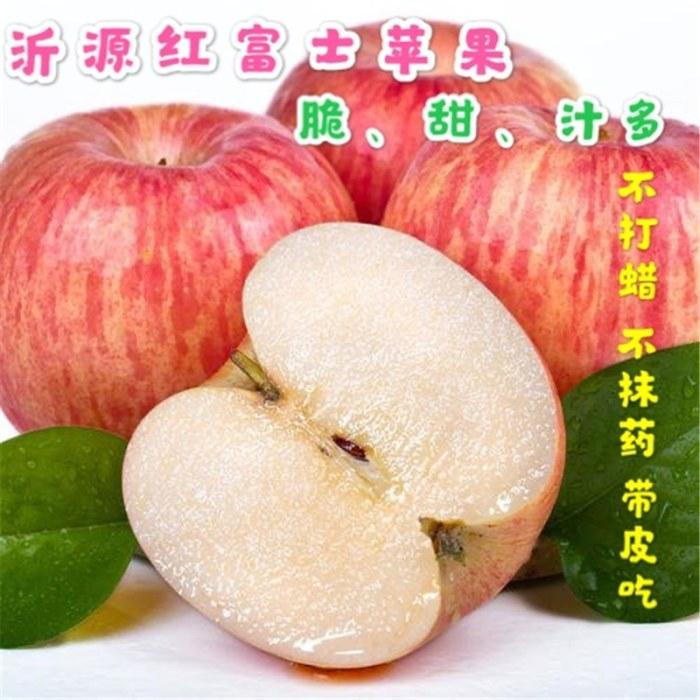apple: (1, 112, 358, 446), (381, 100, 700, 390)
